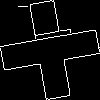I: (25, 25, 72, 46)
